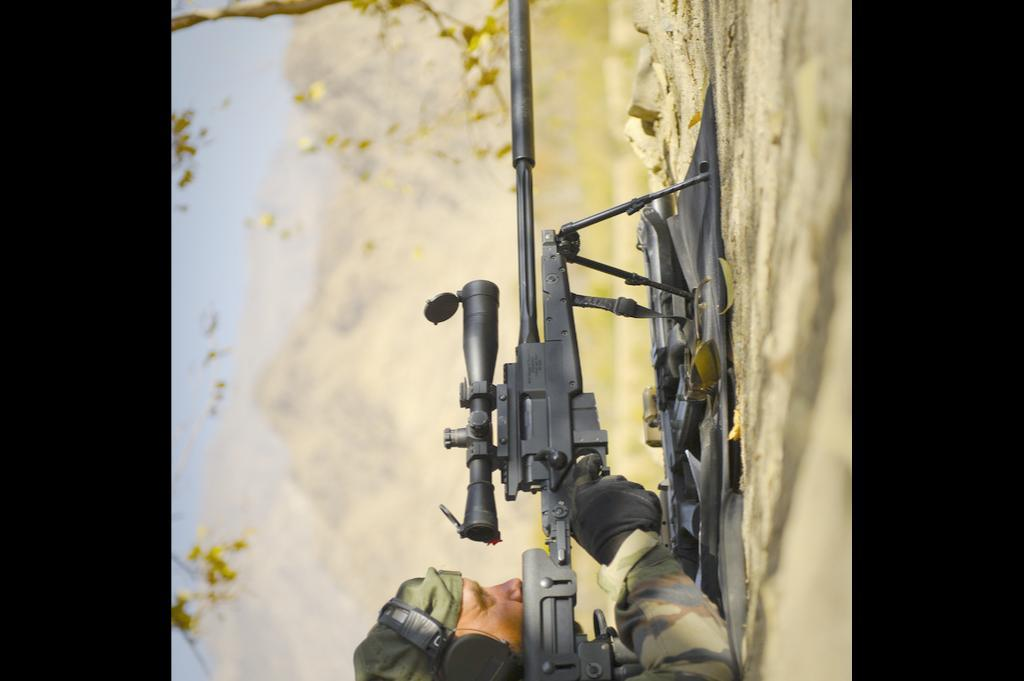gun: (427, 0, 646, 681)
